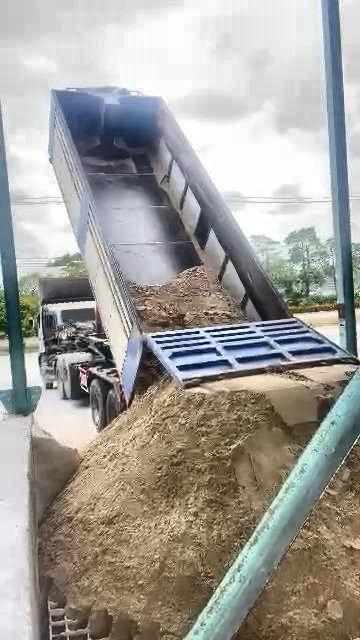sand: (40, 379, 316, 639), (240, 446, 360, 639), (131, 268, 244, 331), (243, 368, 329, 425), (33, 427, 80, 515), (133, 346, 164, 394)
